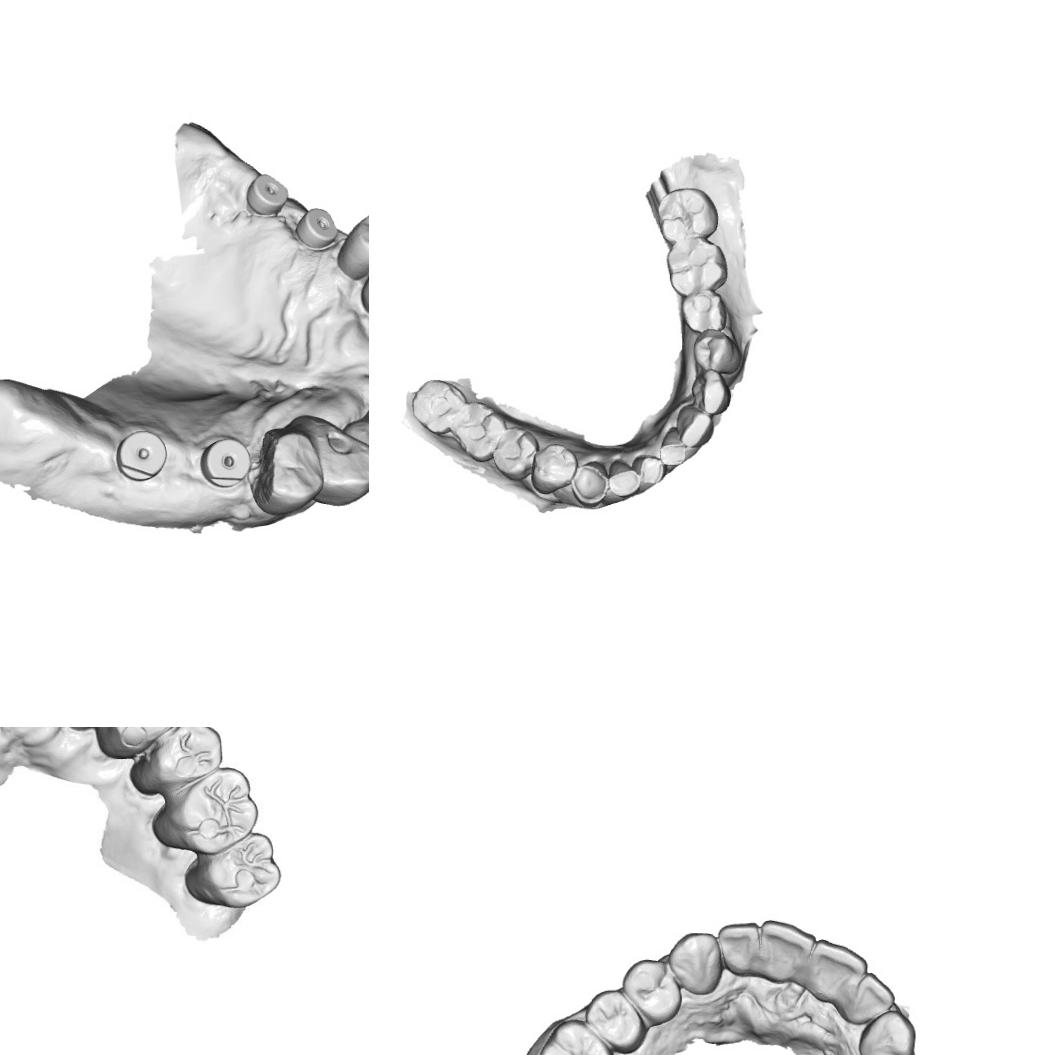canine: (300, 408, 369, 507), (666, 929, 722, 997), (856, 1008, 918, 1055), (570, 458, 616, 510), (689, 368, 731, 418)
implant: (198, 436, 250, 489), (117, 430, 166, 482), (294, 205, 340, 253), (244, 172, 290, 217)
incisor: (809, 936, 869, 1004), (756, 916, 816, 982), (846, 970, 898, 1024), (715, 920, 763, 978), (676, 404, 714, 448), (604, 458, 642, 499), (632, 452, 666, 496), (659, 426, 692, 468)
molar: (176, 770, 255, 852), (201, 833, 278, 912), (448, 399, 510, 464), (654, 185, 720, 244), (664, 240, 730, 299), (405, 378, 466, 438), (535, 1016, 622, 1055)
premolar: (251, 429, 322, 518), (583, 985, 649, 1055), (620, 957, 684, 1028), (154, 727, 216, 781), (490, 424, 538, 483), (528, 442, 578, 495), (692, 326, 742, 376), (679, 288, 730, 334), (343, 208, 369, 270), (106, 727, 187, 744)
